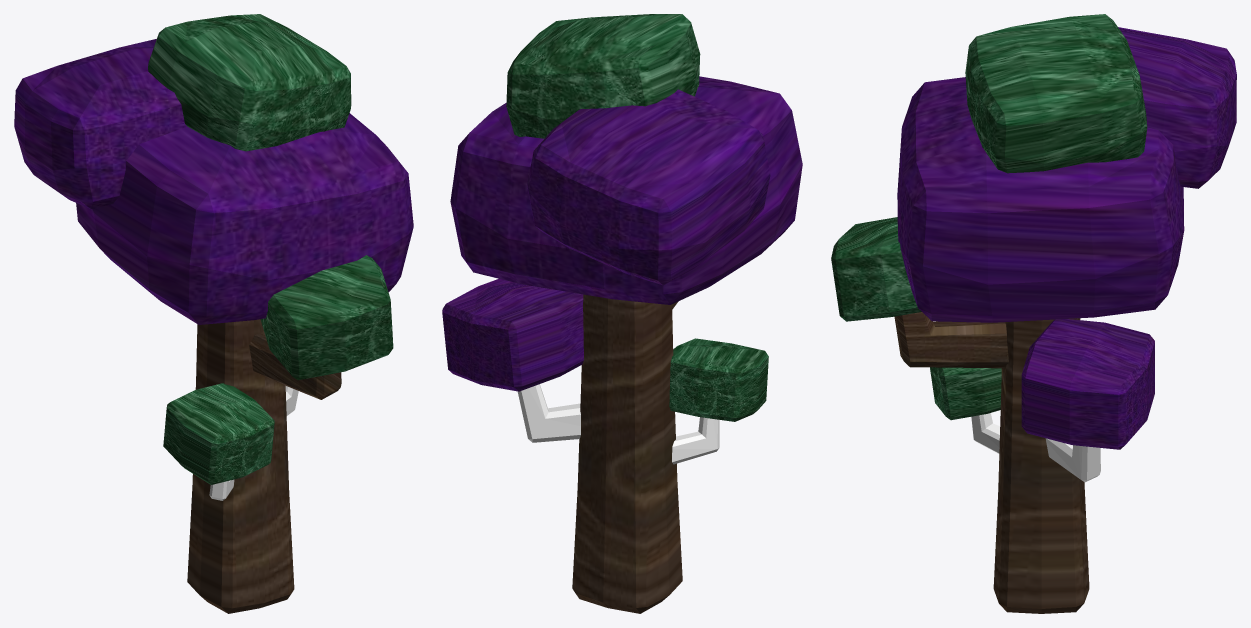
File: grassland_tree_SC_05_trees_red_SC_mat_0_modified.gltf
3 renders of one model, left to right at view 1: azimuth 30°, elevation 25°; view 2: azimuth 150°, elevation 25°; view 3: azimuth 270°, elevation 25°, orthographic. The views are drawn at different scales.
Parts seen in each view (by area): view 1: grassland_tree_SC_05_trees_red_SC_mat_0_modified; view 2: grassland_tree_SC_05_trees_red_SC_mat_0_modified; view 3: grassland_tree_SC_05_trees_red_SC_mat_0_modified.
Part boxes in pixels (x1,y1,x2,y2): grassland_tree_SC_05_trees_red_SC_mat_0_modified: [14, 14, 413, 613]; grassland_tree_SC_05_trees_red_SC_mat_0_modified: [442, 14, 802, 613]; grassland_tree_SC_05_trees_red_SC_mat_0_modified: [831, 14, 1236, 613].
Size of the model in its own units: 97.86 by 176 by 115.
Materials: 4 (3 with a texture image).
